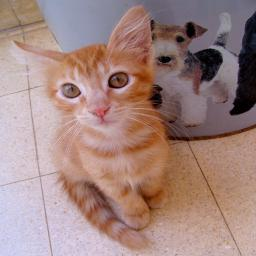catnose: (84, 102, 115, 120)
